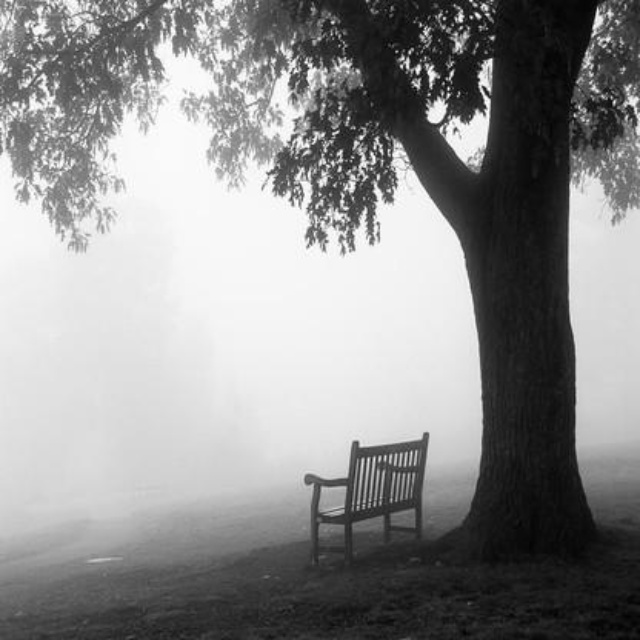obstacle: (278, 418, 440, 572)
